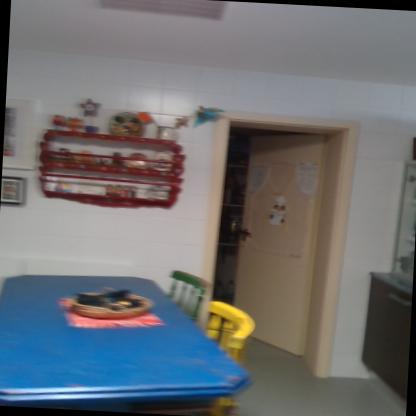semi: (186, 104, 360, 372)
